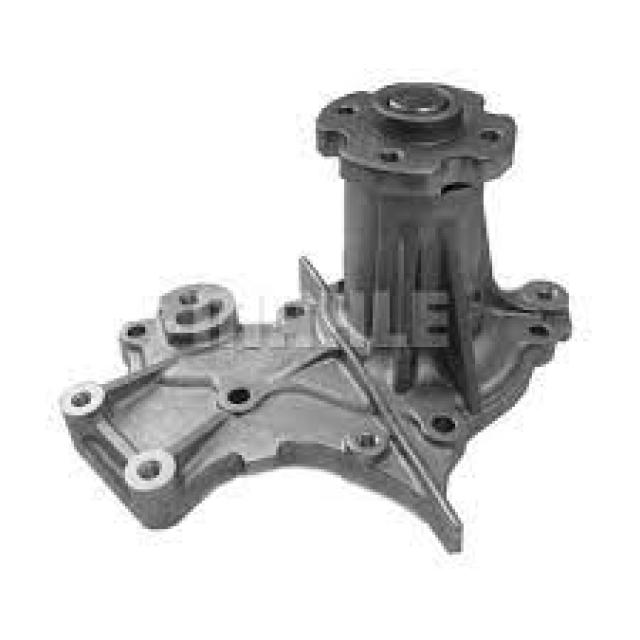video2: (53, 76, 575, 558)
